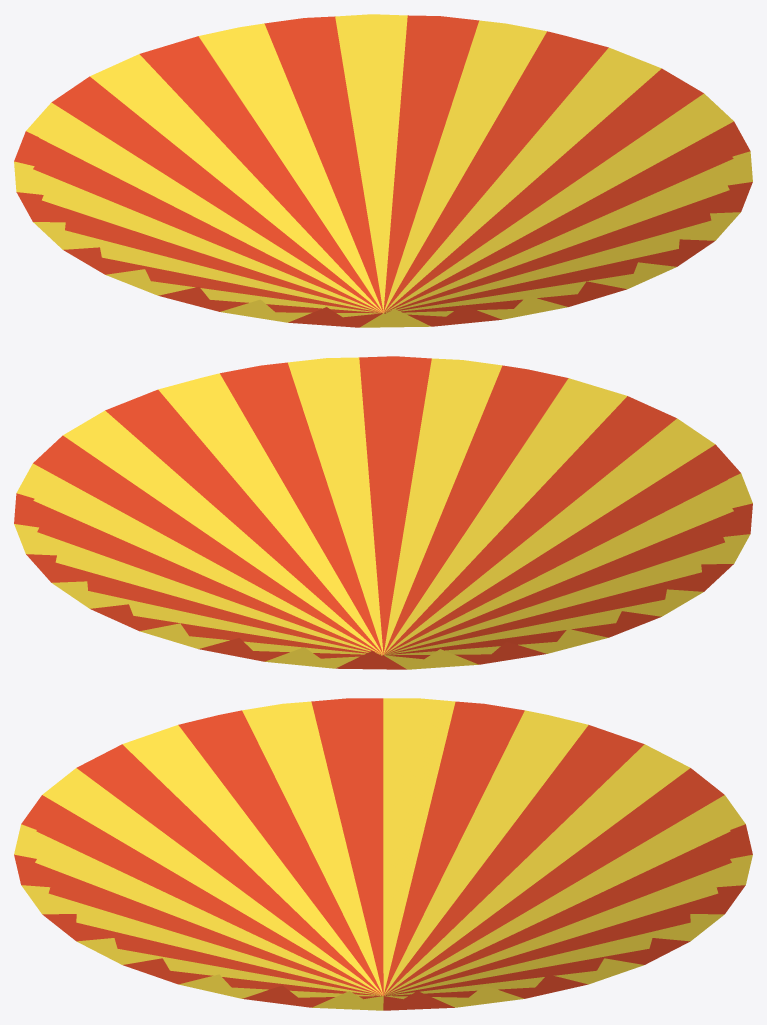
The model's file is Circus Fall.fbx.
3 renders of one model, top to bottom at view 1: azimuth 30°, elevation 25°; view 2: azimuth 150°, elevation 25°; view 3: azimuth 270°, elevation 25°, orthographic.
Visible parts, largest first — view 1: Cone; view 2: Cone; view 3: Cone.
Part boxes in pixels (box(x1,y1,x2,y2)): Cone: box(14, 14, 752, 327); Cone: box(14, 356, 752, 669); Cone: box(14, 698, 752, 1010).
Bounding box in the file's own units: 1308 × 296 × 1308.
